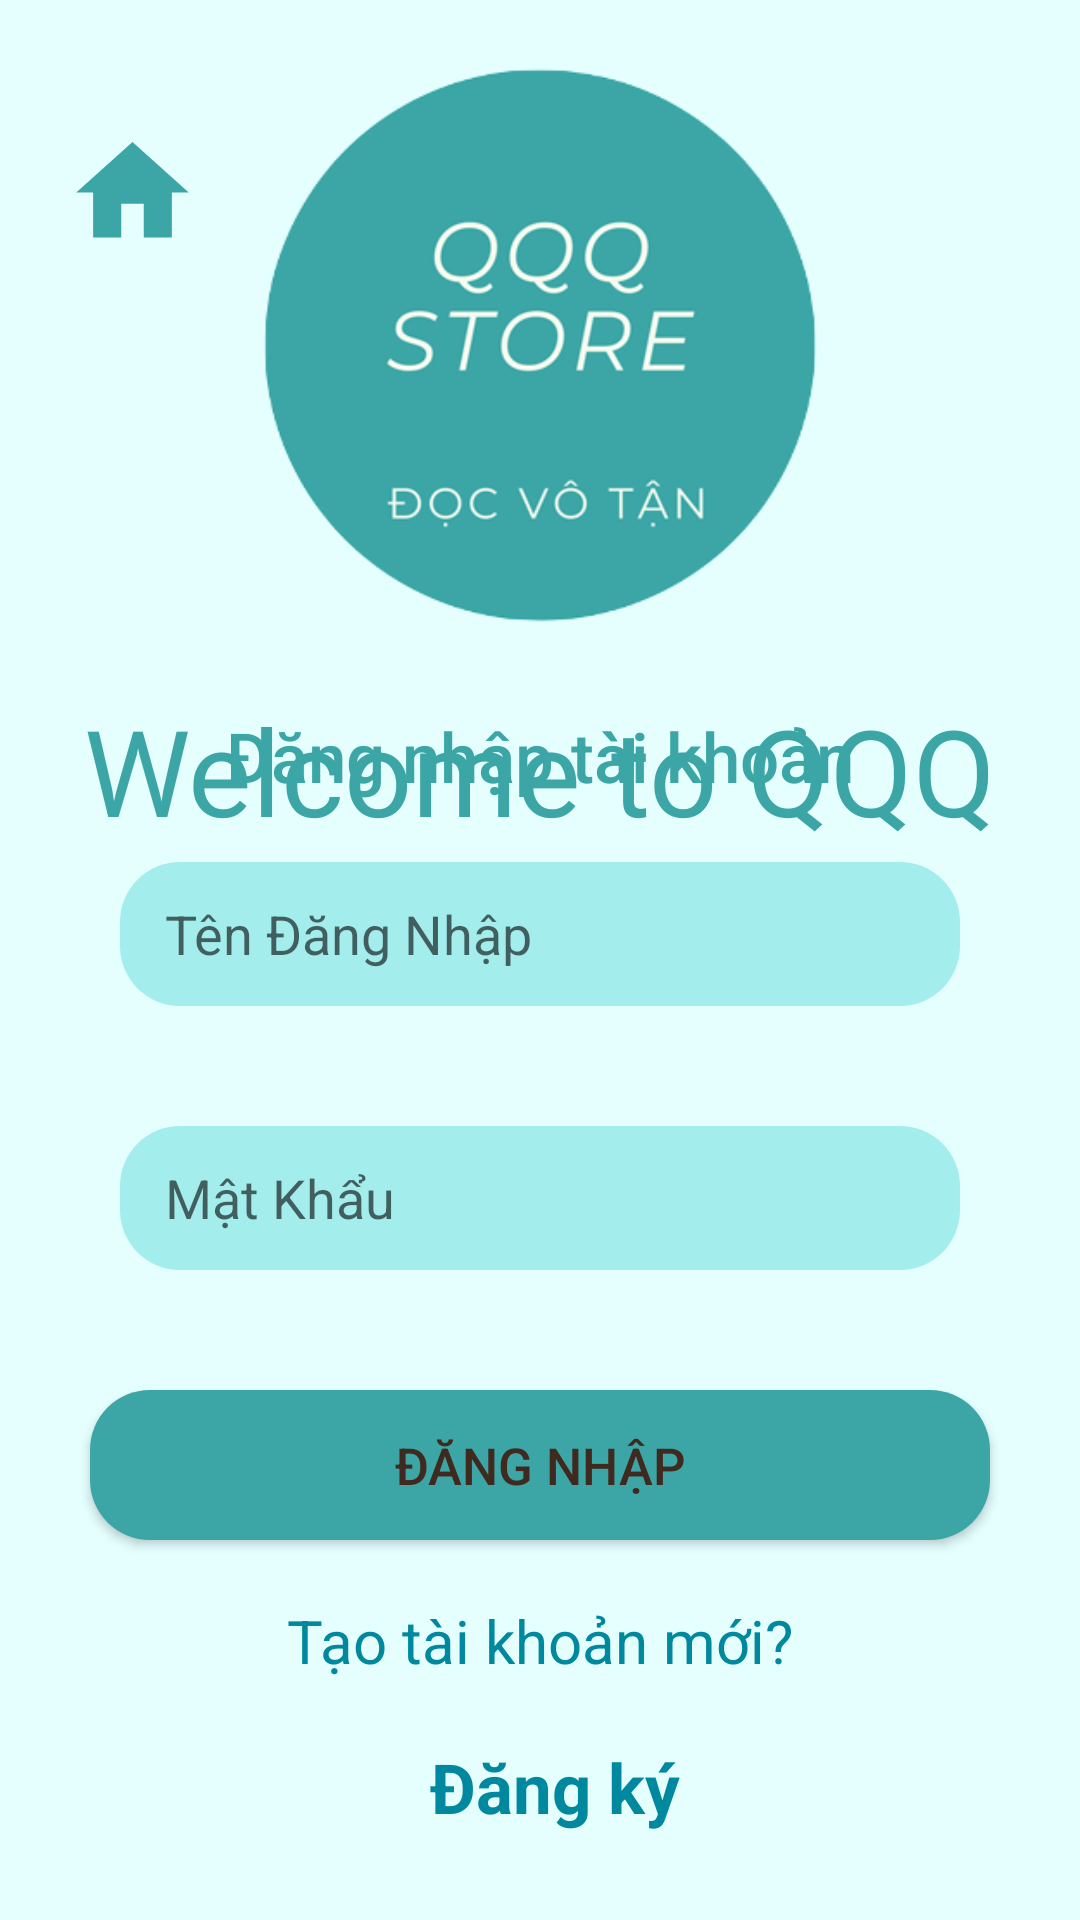

Locate icon controls on the screen. Image size 1080px×1920px, boxes as bbox=[x1, y1, x2, y2].
home: bbox=[76, 142, 189, 238]
